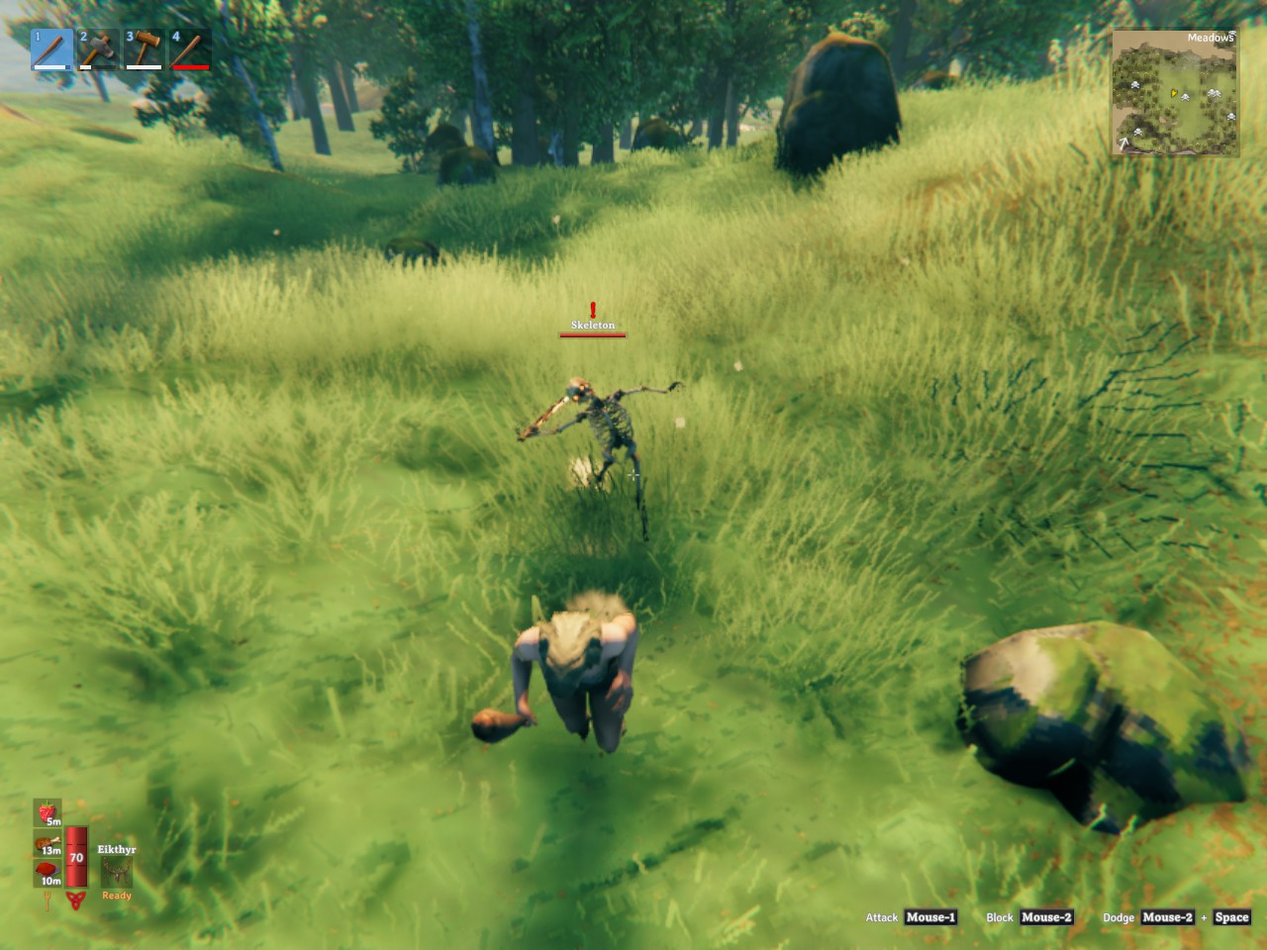Club: (472, 708, 528, 743)
Food Indicator: (36, 797, 63, 891)
Health Bar: (63, 820, 90, 891)
Hotbar: (25, 21, 398, 78)
Skeleton: (517, 378, 681, 538)
